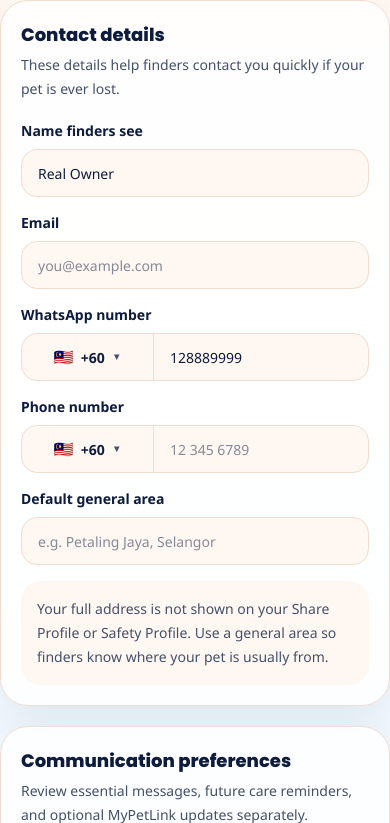
Test: SettingsPanel loading behaviour › does not show success when the server does not confirm the clear
This screenshot has width=390, height=823.
Clear the field labelled "WhatsApp number" at (261, 357), box 154,334 -> 368,380
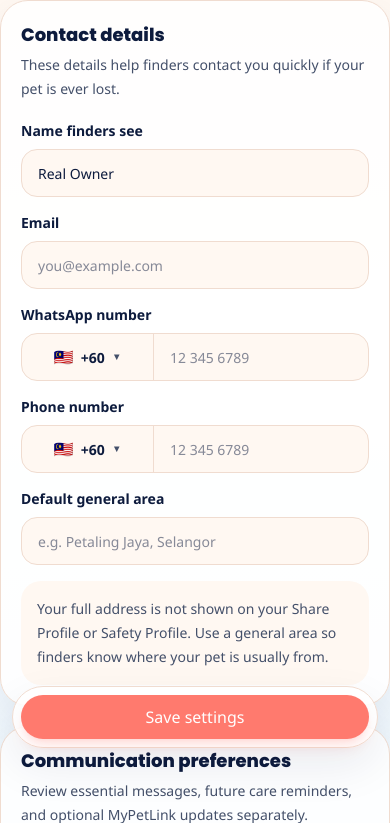
Click the button "Save settings" at (195, 717), box 21,695 -> 369,739
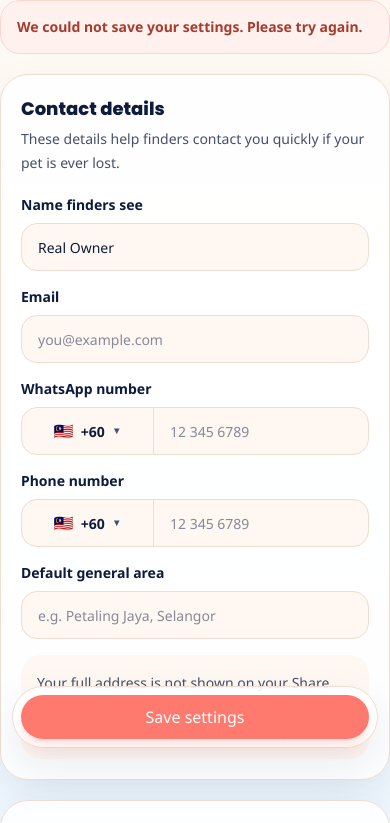
expect the message "We could not save your settings. Please try again." is shown: met, box 0,0 -> 389,54
